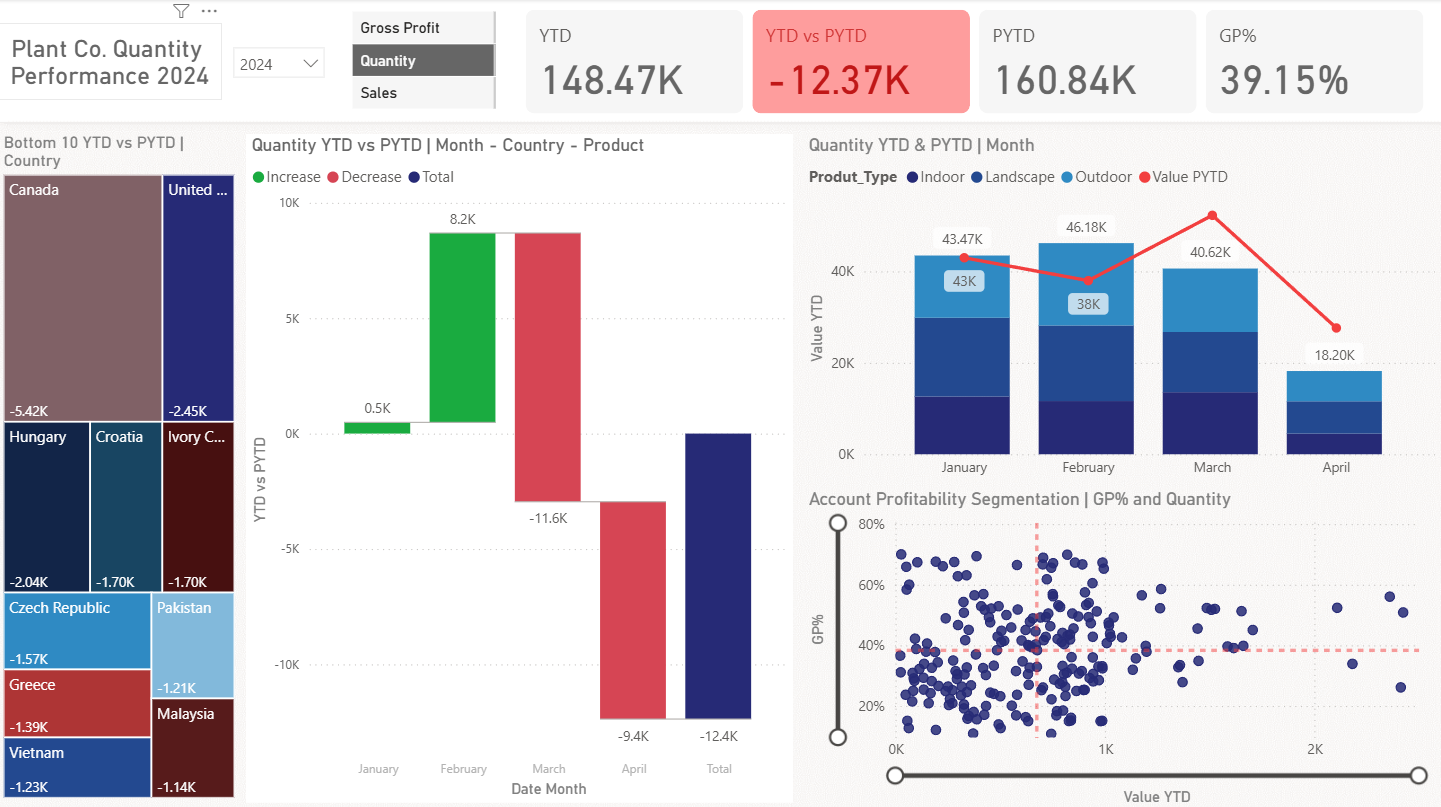

The page's visual inventory and layout, read from the dashboard file:
{"tool":"powerbi","page":{"name":"Performance Report","canvas":[1280,720],"ordinal":0},"visuals":[{"type":"cardVisual","fields":{"Data":["_Measures.S_YTD","_Measures.YTD vs PYTD","_Measures.S_PYTD","_Measures.GP%"]},"box":[463,4.2,806.2,102.1],"z":0},{"type":"advancedSlicerVisual","fields":{"Values":["Slc_Values.Values"]},"box":[309.8,5.9,137.3,98],"z":1000},{"type":"slicer","fields":{"Values":["Dim_Date.Date.Variation.Date Hierarchy.Year"]},"box":[198.4,32.7,101.3,50.2],"z":2000},{"type":"treemap","title":"Bottom 10 YTD vs PYTD | Country","fields":{"Values":["_Measures.YTD vs PYTD"],"Group":["Dim_Account.country"]},"box":[0,118.7,214.6,594.4],"z":3000},{"type":"waterfallChart","fields":{"Y":["_Measures.YTD vs PYTD"],"Category":["Dim_Date.Date.Variation.Date Hierarchy.Month","Dim_Account.country","Dim_Product.Produt_Type","Dim_Product.Product_Name"]},"box":[220.3,119.6,485.2,593.5],"z":4000},{"type":"lineStackedColumnComboChart","fields":{"Y":["_Measures.S_YTD"],"Y2":["_Measures.S_PYTD"],"Category":["Dim_Date.Date.Variation.Date Hierarchy.Quarter","Dim_Date.Date.Variation.Date Hierarchy.Month"],"Series":["Dim_Product.Produt_Type"]},"box":[714.1,119.6,565.9,314.3],"z":5000},{"type":"scatterChart","fields":{"Y":["_Measures.GP%"],"X":["_Measures.S_YTD"],"Category":["Dim_Account.Account"]},"box":[714.1,433.9,565.9,285.8],"z":6000},{"type":"card","fields":{"Values":["_Measures._Report title"]},"box":[0,20.9,198.5,68.4],"z":7000}]}

Visuals, with their boxes in screenshot pixels (x1, y1, x2, y2), scaled from the page's 1280x720 canvas onto the 1441x807 screenshot:
cardVisual - _Measures.S_YTD x _Measures.YTD vs PYTD: <box>521,5,1429,119</box>
advancedSlicerVisual - Slc_Values.Values: <box>349,7,503,116</box>
slicer - Dim_Date.Date.Variation.Date Hierarchy.Year: <box>223,37,337,93</box>
"Bottom 10 YTD vs PYTD | Country" treemap: <box>0,133,242,799</box>
waterfallChart - _Measures.YTD vs PYTD x Dim_Date.Date.Variation.Date Hierarchy.Month: <box>248,134,794,799</box>
lineStackedColumnComboChart - _Measures.S_YTD x _Measures.S_PYTD: <box>804,134,1440,486</box>
scatterChart - _Measures.GP% x _Measures.S_YTD: <box>804,486,1440,806</box>
card - _Measures._Report title: <box>0,23,223,100</box>
